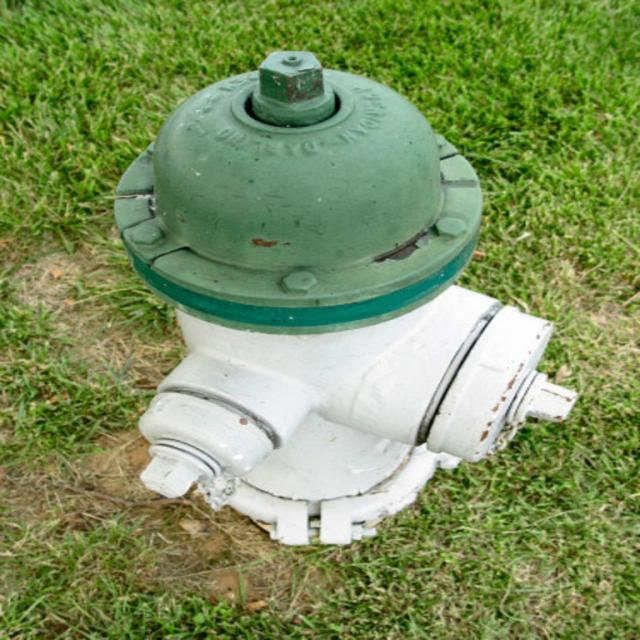fire_hydrant: (111, 50, 582, 544)
